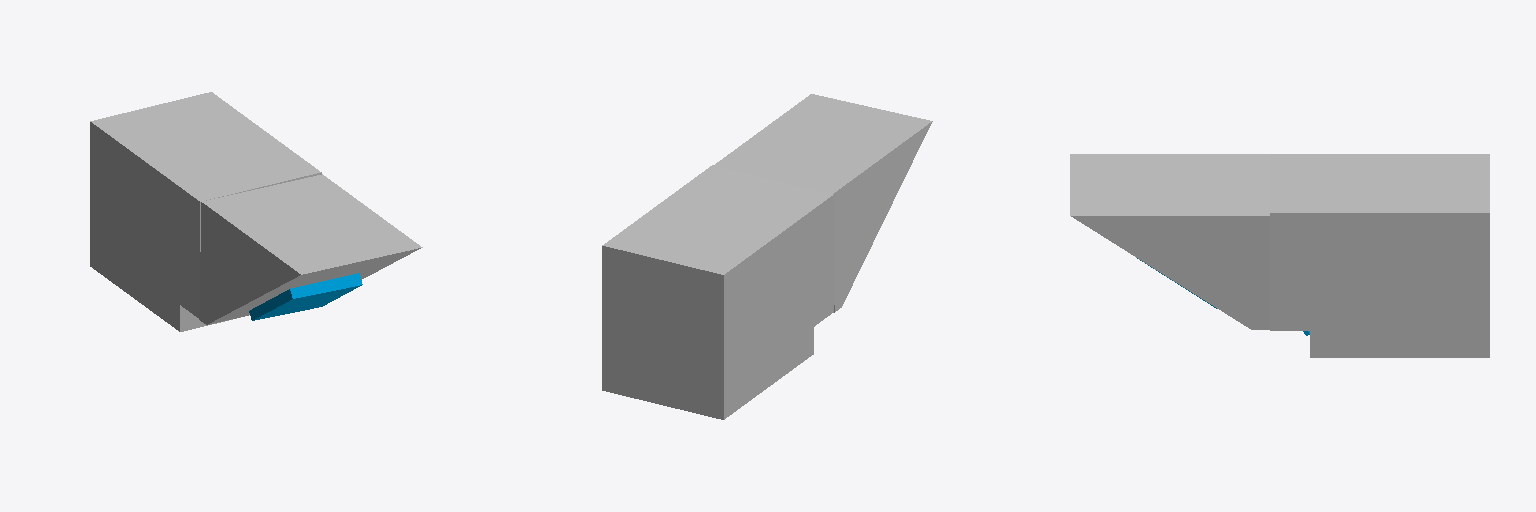
The model's file is tinkerpapp.obj.
The picture shows the model from 3 angles: view 1: azimuth 30°, elevation 25°; view 2: azimuth 150°, elevation 25°; view 3: azimuth 270°, elevation 25°; orthographic projection.
Parts seen in each view (by area): view 1: obj_0; view 2: obj_0; view 3: obj_0.
Part boxes in pixels (x1,y1,x2,y2): obj_0: (90, 92, 422, 331); obj_0: (602, 94, 932, 419); obj_0: (1070, 154, 1489, 357).
Size of the model in its own units: 7.11 by 8 by 21.